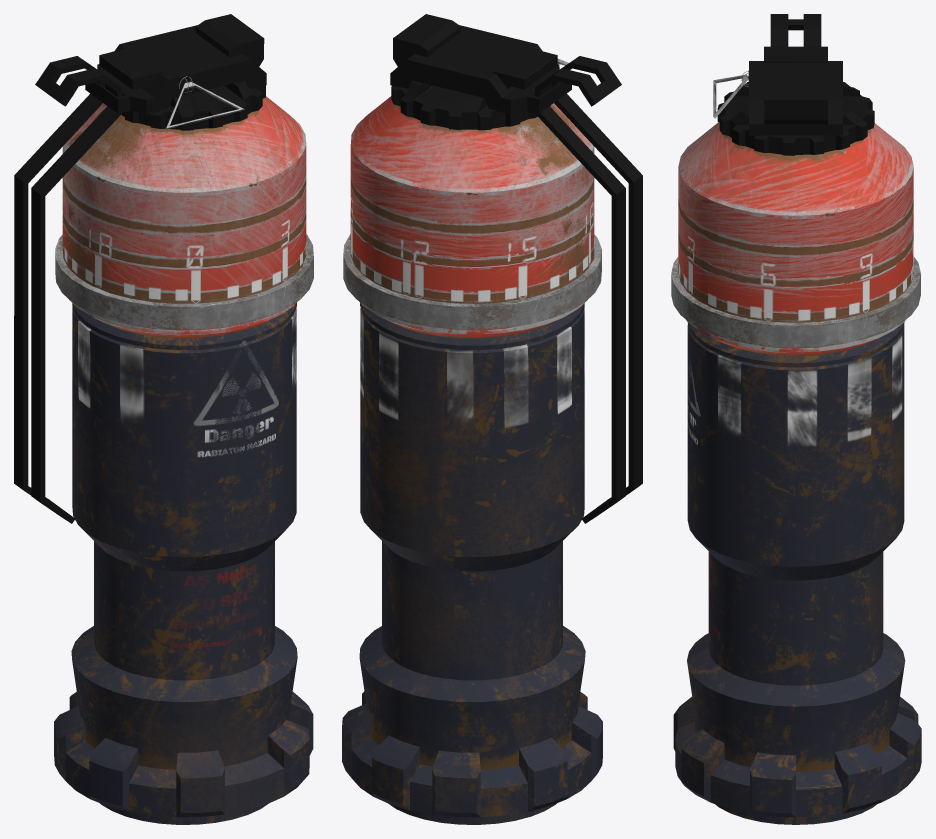
File: arrow_grenade.obj
3 views of the same model, side by side, from view 1: azimuth 30°, elevation 25°; view 2: azimuth 150°, elevation 25°; view 3: azimuth 270°, elevation 25° (orthographic). The views are drawn at different scales.
Visible parts, largest first — view 1: part_11, part_7, part_10, part_4, part_5, part_8, part_6, part_9, part_0; view 2: part_11, part_7, part_10, part_4, part_5, part_8, part_6, part_9; view 3: part_11, part_7, part_10, part_5, part_8, part_6, part_4, part_9.
Part boxes in pixels (x1=…): part_11: x1=71, y1=303, x2=297, y2=769; part_7: x1=62, y1=96, x2=306, y2=338; part_10: x1=54, y1=692, x2=313, y2=817; part_4: x1=14, y1=56, x2=122, y2=523; part_5: x1=85, y1=14, x2=266, y2=114; part_8: x1=55, y1=234, x2=313, y2=329; part_6: x1=121, y1=80, x2=265, y2=130; part_9: x1=100, y1=803, x2=268, y2=824; part_0: x1=165, y1=81, x2=244, y2=129; part_11: x1=359, y1=303, x2=585, y2=769; part_7: x1=350, y1=96, x2=594, y2=338; part_10: x1=342, y1=691, x2=602, y2=817; part_4: x1=535, y1=56, x2=642, y2=523; part_5: x1=390, y1=14, x2=571, y2=114; part_8: x1=343, y1=234, x2=601, y2=329; part_6: x1=391, y1=80, x2=550, y2=130; part_9: x1=388, y1=803, x2=556, y2=824; part_11: x1=687, y1=322, x2=905, y2=771; part_7: x1=678, y1=122, x2=913, y2=356; part_10: x1=673, y1=696, x2=921, y2=817; part_5: x1=749, y1=46, x2=842, y2=135; part_8: x1=671, y1=256, x2=920, y2=347; part_6: x1=717, y1=82, x2=874, y2=155; part_4: x1=770, y1=14, x2=821, y2=46; part_9: x1=715, y1=804, x2=876, y2=824.
Size of the model in its own units: 0.3805 by 1 by 0.3171.
